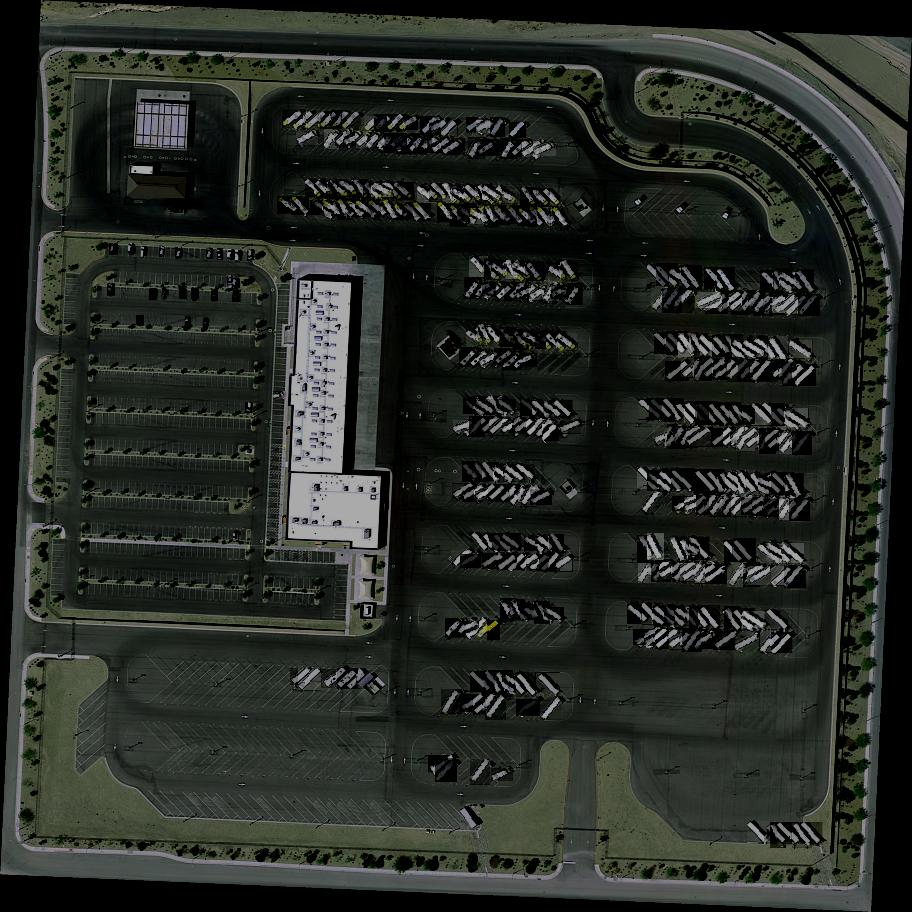large-vehicle: (771, 472, 795, 497), (733, 538, 756, 564), (694, 470, 717, 496), (681, 357, 707, 380), (720, 401, 742, 428), (763, 403, 787, 427), (789, 498, 812, 523), (704, 267, 727, 292), (638, 467, 661, 492), (750, 360, 773, 385), (727, 562, 749, 588), (698, 605, 720, 631), (737, 470, 759, 496), (779, 430, 801, 456), (714, 361, 740, 383), (442, 689, 463, 716), (756, 543, 783, 564), (643, 488, 664, 515), (322, 668, 349, 689), (651, 286, 672, 313), (647, 471, 674, 492), (729, 406, 756, 427), (748, 567, 776, 587), (476, 620, 500, 643), (537, 673, 560, 697), (473, 694, 497, 717), (688, 537, 711, 561), (731, 495, 754, 519), (732, 608, 755, 632), (747, 821, 770, 845), (706, 292, 730, 315), (298, 670, 322, 693), (671, 469, 694, 493), (751, 403, 775, 426), (704, 358, 728, 381), (738, 360, 762, 383), (793, 364, 816, 388), (516, 673, 538, 698), (724, 539, 746, 564), (653, 605, 678, 627), (675, 608, 700, 630), (656, 629, 681, 651), (742, 290, 764, 315), (666, 332, 688, 357), (744, 429, 769, 451), (659, 470, 684, 492), (639, 399, 664, 421), (649, 399, 674, 421), (662, 398, 684, 423), (675, 402, 697, 427), (686, 401, 708, 426), (697, 402, 719, 427), (718, 292, 744, 313), (471, 759, 492, 785), (674, 289, 695, 315), (669, 269, 695, 290), (662, 289, 683, 315), (783, 362, 804, 388), (502, 674, 529, 694), (675, 538, 702, 558), (750, 472, 770, 499), (710, 493, 730, 520), (679, 332, 699, 359), (736, 427, 756, 454), (494, 670, 513, 698), (428, 756, 456, 775), (637, 535, 656, 563), (728, 470, 747, 498), (470, 671, 493, 694), (697, 494, 720, 517), (765, 609, 788, 632), (777, 823, 800, 846), (800, 823, 823, 846), (760, 270, 783, 293), (786, 294, 809, 317), (466, 618, 488, 642), (781, 543, 805, 565), (772, 566, 796, 588), (785, 566, 807, 590), (716, 473, 740, 495), (798, 294, 820, 318), (700, 335, 722, 359), (436, 759, 458, 783), (657, 263, 679, 287), (772, 360, 796, 382), (709, 403, 731, 427), (541, 697, 562, 722), (628, 604, 653, 625), (682, 628, 703, 653), (761, 631, 782, 656), (767, 431, 792, 452), (666, 361, 691, 382), (728, 358, 749, 383), (713, 631, 739, 651), (792, 824, 812, 850), (758, 336, 778, 362), (754, 291, 774, 317), (795, 269, 815, 295), (682, 265, 702, 291), (768, 336, 788, 362), (686, 428, 712, 448), (766, 543, 793, 562), (764, 499, 791, 518), (732, 289, 751, 316), (680, 423, 699, 450), (673, 560, 695, 583), (772, 633, 794, 656), (764, 293, 786, 316), (647, 265, 669, 288), (643, 603, 664, 627), (757, 476, 785, 494), (647, 533, 665, 561), (724, 427, 748, 448), (484, 671, 504, 696), (487, 695, 507, 720), (680, 563, 705, 583), (460, 806, 480, 831), (793, 431, 813, 456), (516, 699, 542, 718), (639, 558, 658, 584), (780, 273, 806, 292), (732, 339, 758, 358), (743, 339, 769, 358), (667, 424, 686, 450), (461, 695, 488, 713), (786, 473, 804, 500), (725, 334, 743, 361), (778, 404, 796, 431), (759, 428, 777, 455), (445, 618, 467, 640), (655, 333, 677, 355), (337, 668, 359, 690), (495, 282, 518, 303), (713, 336, 734, 359), (706, 564, 730, 584), (664, 607, 688, 627), (712, 428, 736, 448), (633, 629, 661, 646), (695, 292, 723, 309), (722, 493, 741, 518), (753, 498, 778, 517), (659, 563, 685, 581), (743, 562, 761, 588), (741, 498, 767, 516), (779, 496, 797, 522), (690, 606, 708, 632), (645, 630, 671, 648), (735, 634, 761, 652), (692, 333, 710, 359), (695, 357, 713, 383), (397, 135, 418, 157), (652, 559, 672, 582), (670, 631, 693, 651), (724, 606, 741, 633), (770, 822, 787, 849), (654, 428, 681, 445), (790, 340, 814, 359), (283, 110, 307, 129), (742, 611, 767, 629), (718, 268, 736, 293), (785, 409, 810, 427), (672, 497, 700, 513), (459, 347, 479, 369), (483, 283, 505, 303), (422, 133, 442, 155), (542, 189, 564, 209), (500, 138, 519, 161), (697, 562, 716, 585), (348, 668, 367, 691), (670, 536, 686, 563), (773, 298, 800, 314), (690, 633, 715, 650), (471, 349, 492, 369), (488, 484, 509, 504), (537, 207, 557, 228), (531, 188, 551, 209), (536, 419, 555, 441), (492, 533, 514, 552), (457, 204, 479, 223), (469, 257, 488, 279), (684, 498, 710, 514), (774, 268, 790, 294), (709, 470, 725, 496), (529, 284, 552, 302), (442, 137, 465, 155), (477, 139, 500, 157), (450, 204, 468, 227), (500, 599, 517, 623), (411, 133, 428, 157), (503, 351, 523, 371), (470, 533, 490, 553), (296, 111, 316, 131), (430, 184, 450, 204), (464, 185, 484, 205), (451, 549, 472, 568), (512, 139, 533, 158), (331, 110, 350, 131), (391, 202, 412, 221), (413, 201, 432, 222), (291, 668, 312, 687), (465, 277, 483, 299), (277, 196, 299, 214), (367, 200, 389, 218), (462, 461, 479, 484), (567, 283, 584, 306), (521, 485, 538, 508), (432, 136, 455, 153), (468, 136, 485, 159), (296, 131, 319, 148), (507, 283, 531, 299), (534, 601, 550, 625), (489, 419, 509, 438), (526, 417, 545, 437), (500, 328, 519, 348), (495, 348, 515, 367), (515, 464, 535, 483), (543, 553, 562, 573), (316, 180, 336, 199), (389, 133, 409, 152), (307, 111, 326, 131), (357, 131, 377, 150), (504, 206, 523, 226), (518, 208, 538, 227), (345, 199, 365, 218), (488, 326, 506, 347), (558, 333, 579, 351), (504, 465, 525, 483), (482, 533, 500, 554), (511, 486, 529, 507), (501, 533, 522, 551), (305, 180, 326, 198), (329, 180, 347, 201), (364, 181, 382, 202), (394, 182, 415, 200), (437, 203, 455, 224), (494, 205, 512, 226), (562, 261, 580, 282), (418, 185, 439, 203), (535, 333, 557, 350), (521, 604, 543, 621), (463, 486, 485, 503), (531, 490, 553, 507), (522, 141, 544, 158), (338, 181, 360, 198), (551, 207, 568, 229), (484, 259, 501, 281), (527, 261, 544, 283), (548, 265, 570, 282), (520, 187, 537, 209), (355, 201, 377, 218), (442, 183, 459, 205), (482, 186, 504, 203), (452, 484, 475, 500), (511, 599, 527, 622), (474, 486, 497, 502), (474, 282, 497, 298), (470, 208, 493, 224), (381, 199, 397, 222), (555, 400, 574, 419), (501, 485, 520, 504), (543, 424, 561, 444), (547, 333, 567, 351), (530, 554, 550, 572), (537, 536, 557, 554), (343, 112, 361, 132), (375, 115, 393, 135), (335, 129, 353, 149), (528, 208, 546, 228), (291, 197, 309, 217), (544, 402, 565, 419), (475, 398, 496, 415), (466, 330, 487, 347), (552, 556, 573, 573), (518, 554, 539, 571), (483, 554, 504, 571), (492, 263, 513, 280), (513, 419, 535, 435), (545, 281, 561, 303), (479, 325, 495, 347), (372, 183, 394, 199), (311, 200, 333, 216), (515, 353, 538, 368), (517, 285, 540, 300), (380, 132, 395, 155), (484, 204, 499, 227), (322, 201, 345, 216), (338, 198, 353, 221), (451, 188, 474, 203), (482, 416, 500, 435), (509, 553, 527, 572), (420, 117, 439, 135), (320, 111, 337, 131), (368, 132, 385, 152), (464, 398, 485, 414), (469, 416, 485, 437), (473, 462, 489, 483), (513, 330, 529, 351), (493, 466, 514, 482), (384, 184, 405, 200), (325, 129, 341, 150), (552, 286, 574, 301), (523, 332, 545, 347), (480, 352, 502, 367), (457, 621, 479, 636), (460, 554, 482, 569), (477, 185, 492, 207), (509, 122, 527, 140), (403, 202, 421, 220), (533, 143, 556, 157), (488, 396, 504, 416), (520, 400, 540, 416), (532, 402, 552, 418), (483, 462, 499, 482), (498, 554, 518, 570), (490, 118, 506, 138), (353, 180, 369, 200), (550, 534, 565, 555), (506, 260, 521, 281), (524, 538, 546, 552), (343, 133, 365, 147), (496, 190, 518, 204), (492, 768, 514, 782), (388, 115, 406, 132), (399, 117, 418, 133), (502, 421, 523, 435), (560, 422, 581, 436), (544, 607, 565, 621), (514, 264, 535, 278), (364, 116, 381, 133), (442, 120, 459, 137), (467, 118, 485, 134), (358, 673, 376, 689), (453, 421, 475, 434), (477, 120, 496, 135), (497, 400, 516, 413), (431, 120, 450, 133), (227, 276, 232, 285)
small-vehicle: (107, 284, 116, 297), (110, 243, 119, 256), (232, 278, 241, 290), (150, 288, 159, 300), (232, 291, 241, 303), (245, 402, 254, 414), (273, 391, 286, 399), (175, 247, 183, 259), (191, 288, 199, 300), (206, 248, 214, 259), (247, 250, 254, 262), (162, 287, 168, 300), (211, 290, 218, 301), (137, 315, 144, 326), (218, 248, 224, 260), (203, 318, 209, 329), (180, 287, 186, 298), (234, 530, 239, 541), (159, 246, 164, 256), (128, 243, 133, 252), (142, 246, 146, 257), (236, 251, 240, 261), (228, 249, 232, 258), (186, 317, 189, 325)
